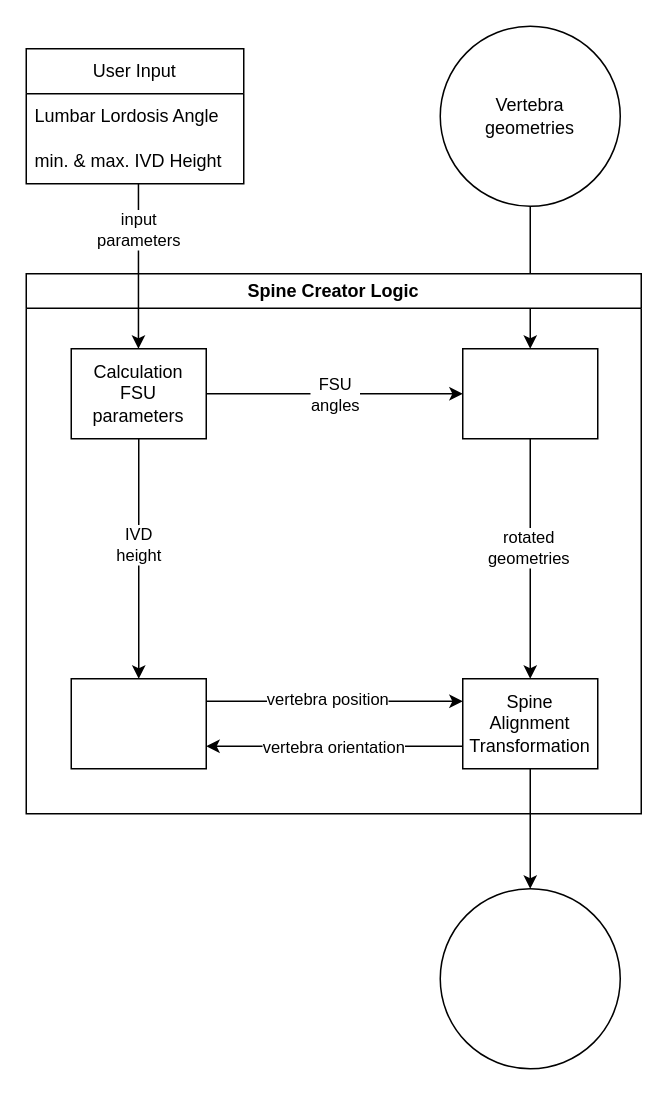
The diagram is 668 pixels wide and 1095 high, and some of its shapes have lost their labels. The centre of each missing label's shape, as x and y in pixels:
"Calculation vertebra position" goes at [138,723].
"Coherent spine model" goes at [529,978].
"Geometry rotation" goes at [529,393].
